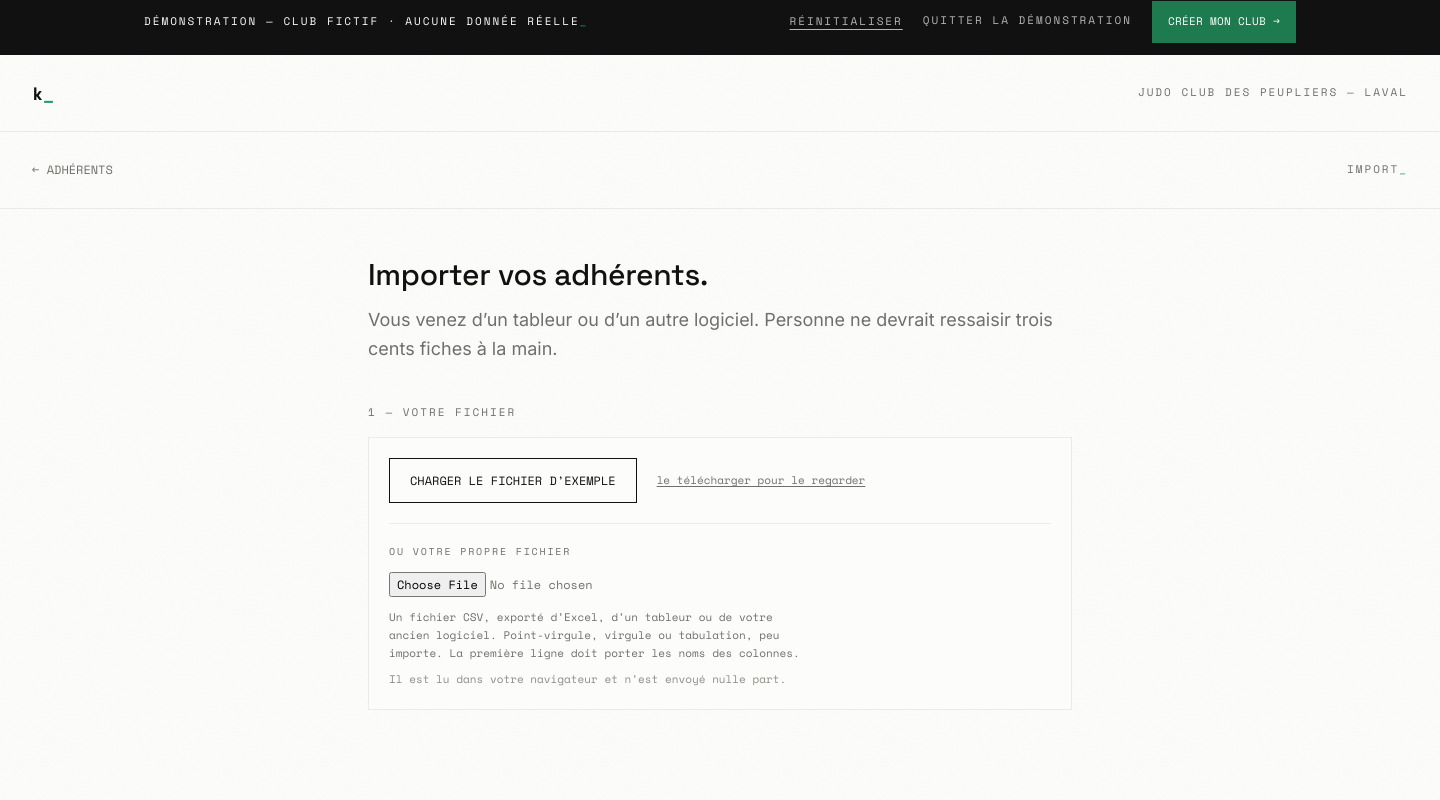
Test: la lecture du fichier › annonce les sept lignes et n’en montre que cinq
Click the button "CHARGER LE FICHIER D’EXEMPLE".
click(513, 481)  # box left=389, top=458, right=637, bottom=503
(page scrolled)
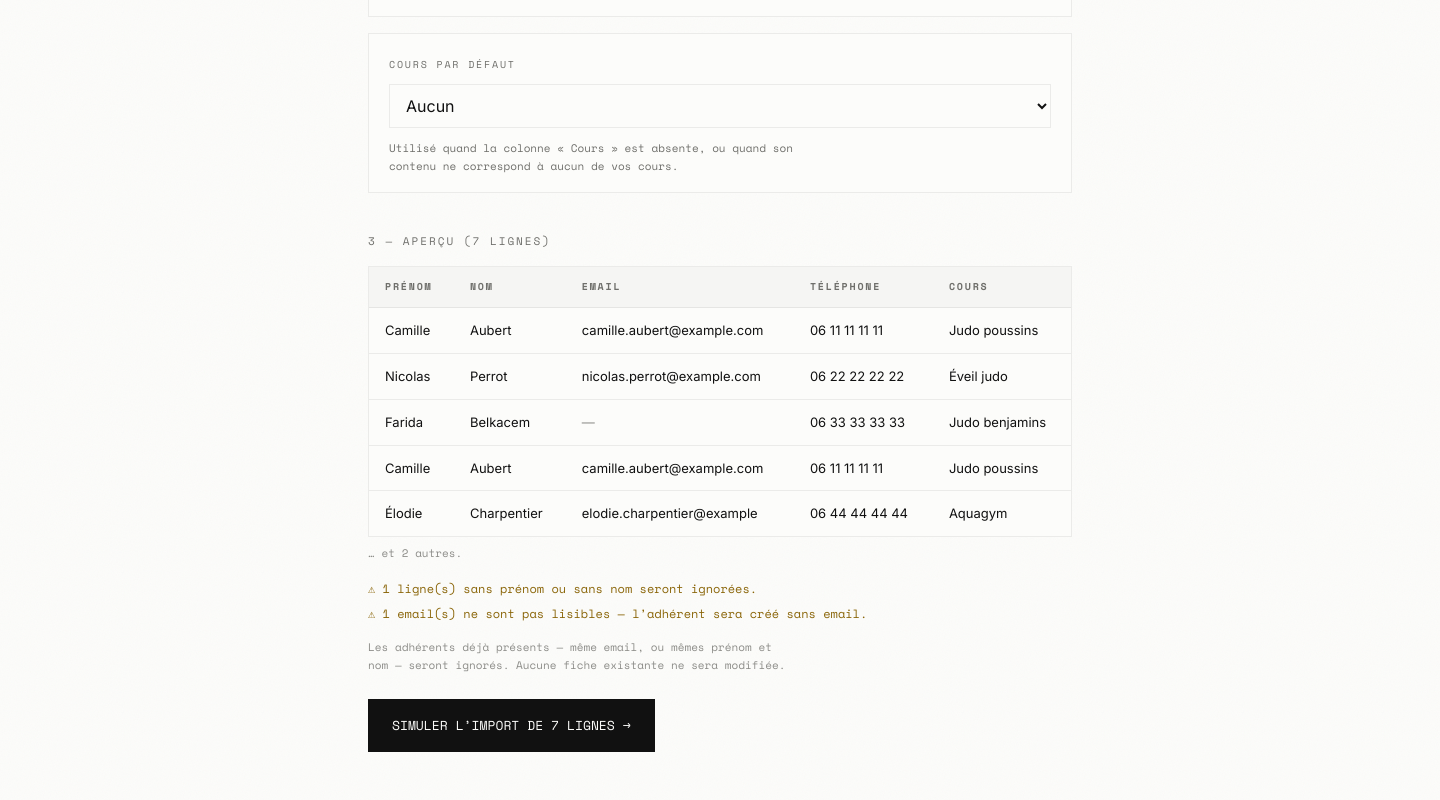
expect the text "3 — APERÇU (7 lignes)" is shown: met, box left=368, top=233, right=551, bottom=249
expect the text "… et 2 autres." is shown: met, box left=368, top=545, right=462, bottom=561
expect the text "Camille" is shown 2 times: met, box left=369, top=308, right=454, bottom=354; left=369, top=445, right=454, bottom=491
